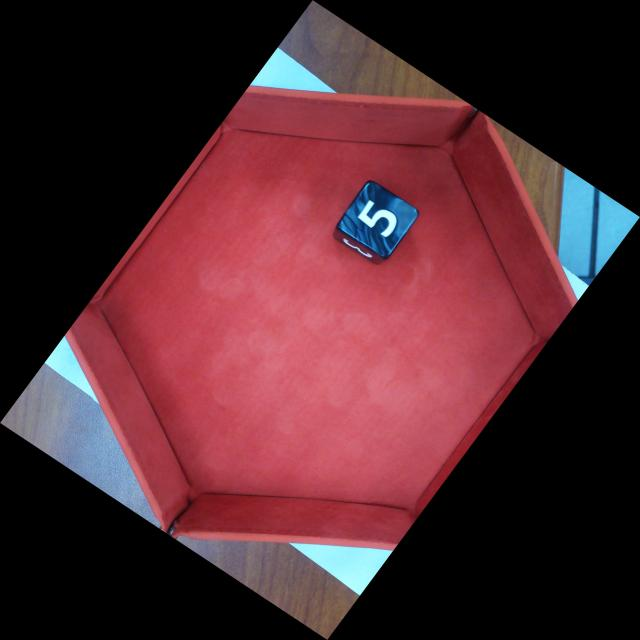dice: (341, 185, 422, 256)
